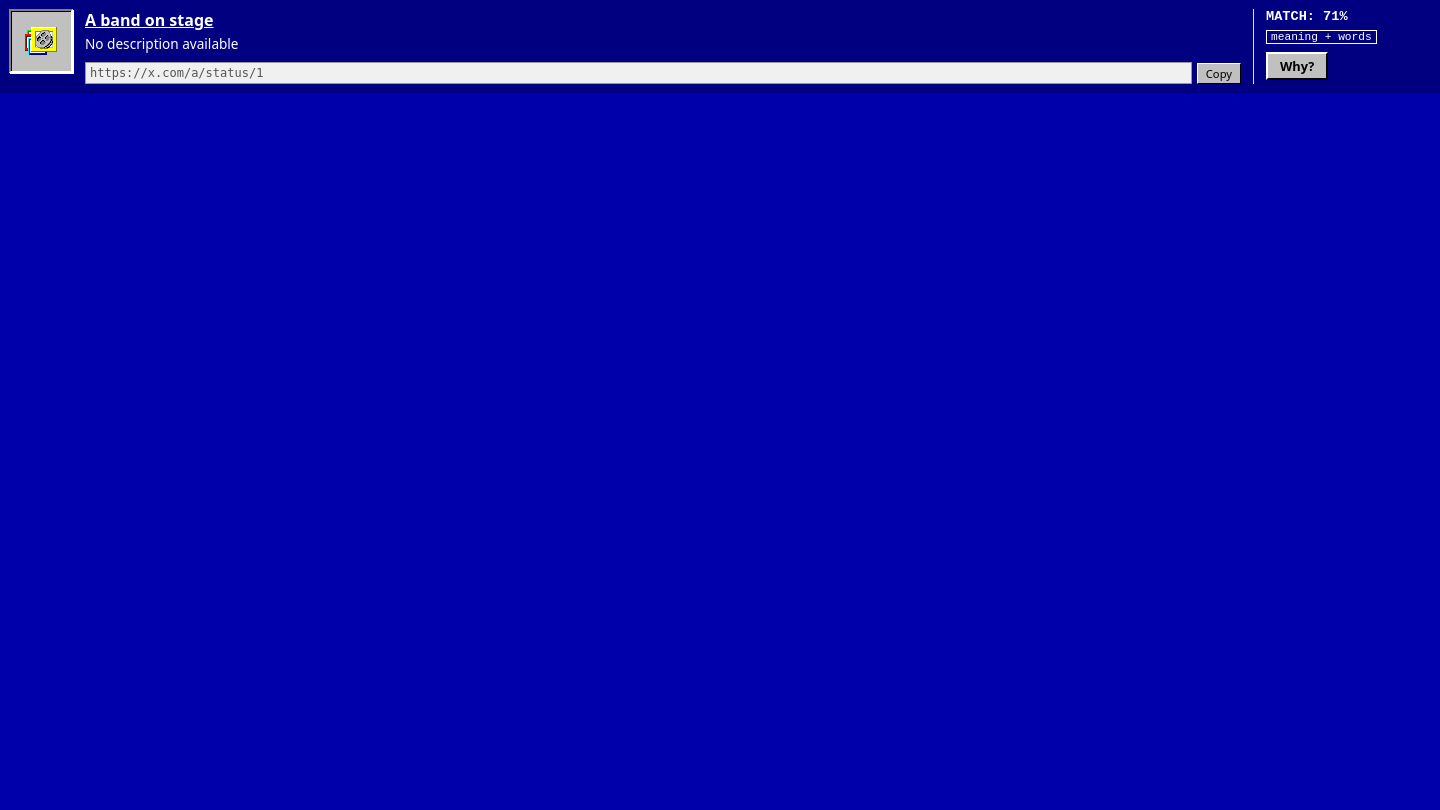
Test: the results of a search › should leave out the list a mode does not use
What coordinates should you click on to do the following:
click the button "Why?"
I would click on:
 (1297, 66)
Its box is [1266,52,1328,80].
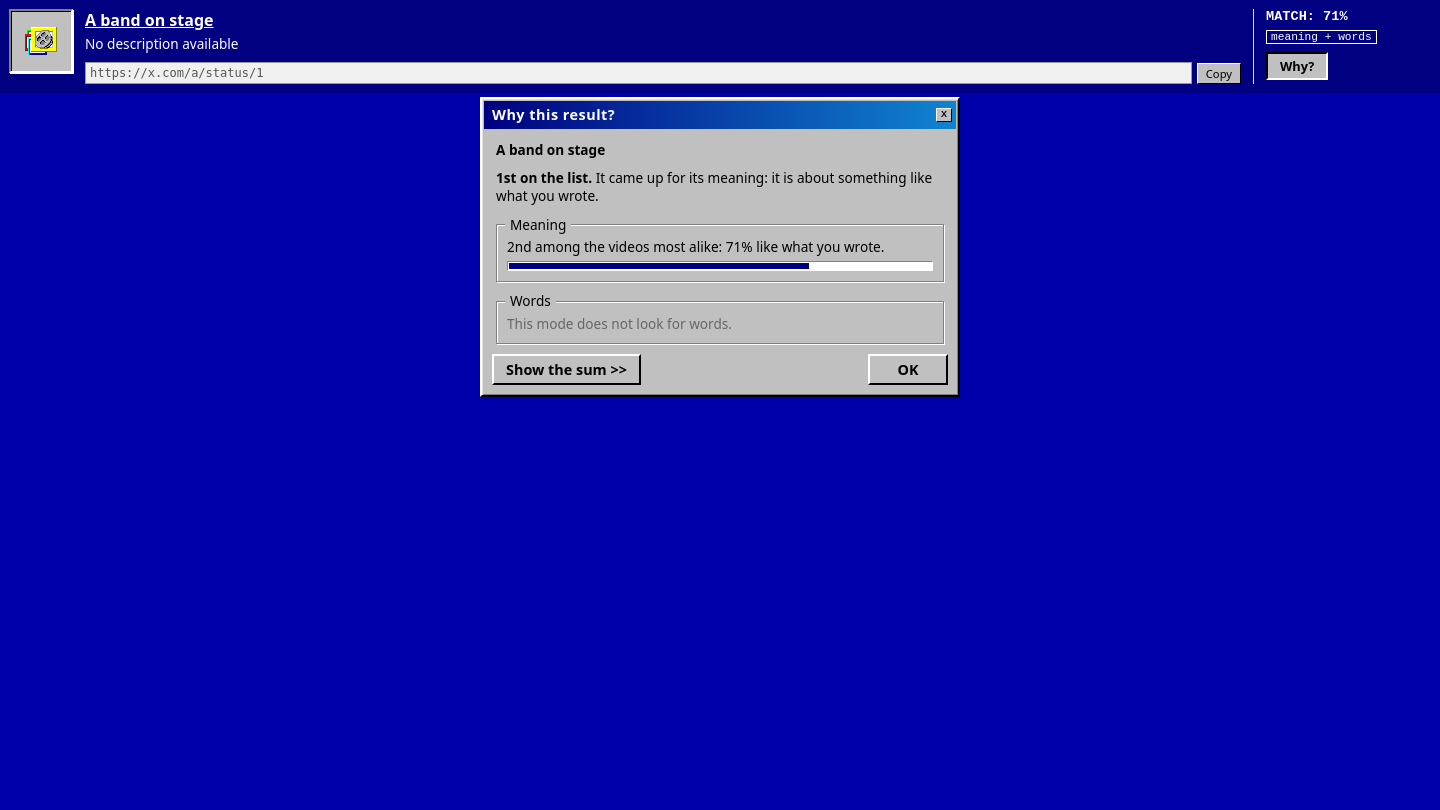
Expected: the dialog "Why this result?" shows "It came up for its meaning", [496,168,932,205]
Expected: the element "Words" shows "This mode does not look for words.", [507,314,732,333]
What coordinates should you click on to do the following:
click the button "Show the sum >>"
I would click on:
 (566, 370)
Its box is [492,354,641,385].
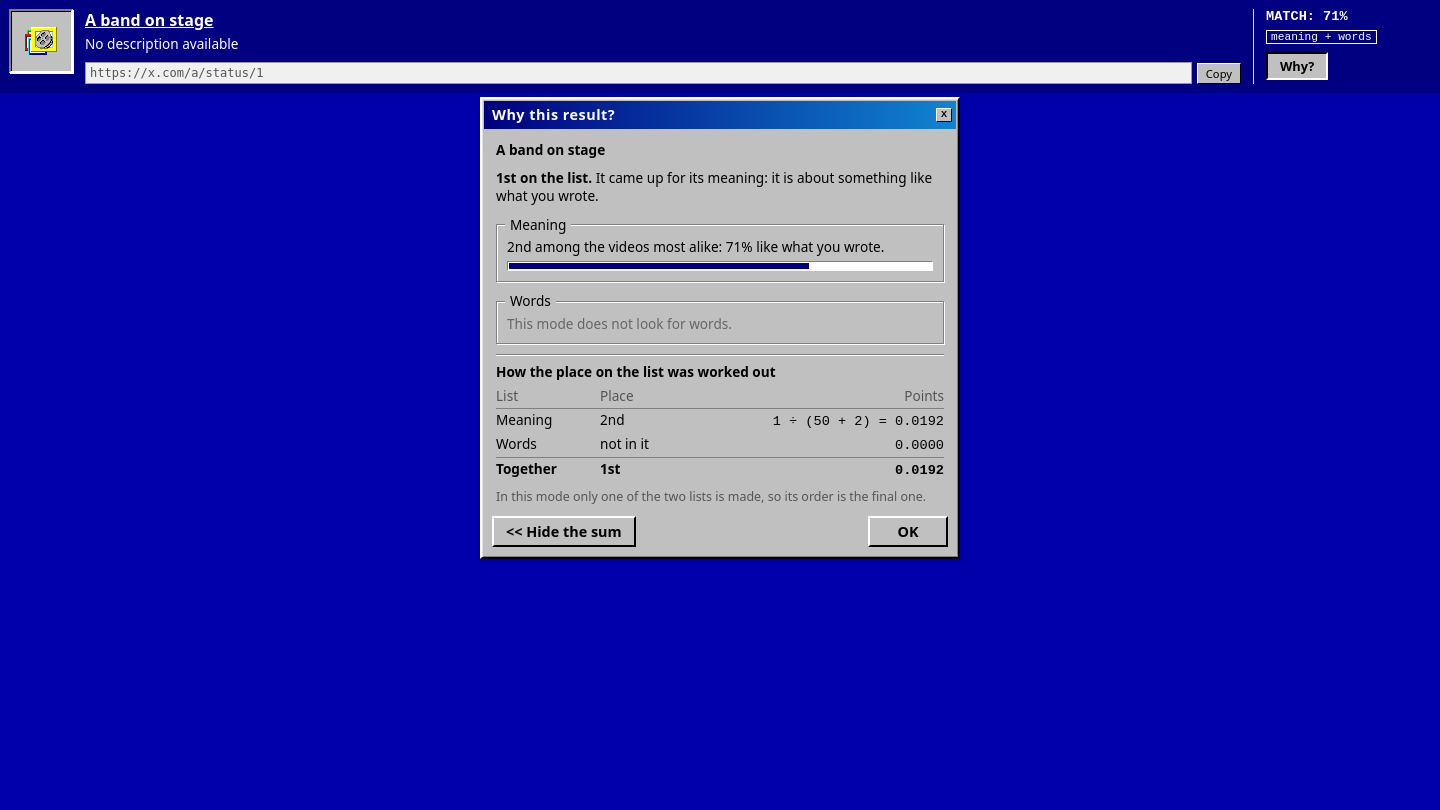
Expected: the text "only one of the two lists is made" is shown, [496,488,926,505]
